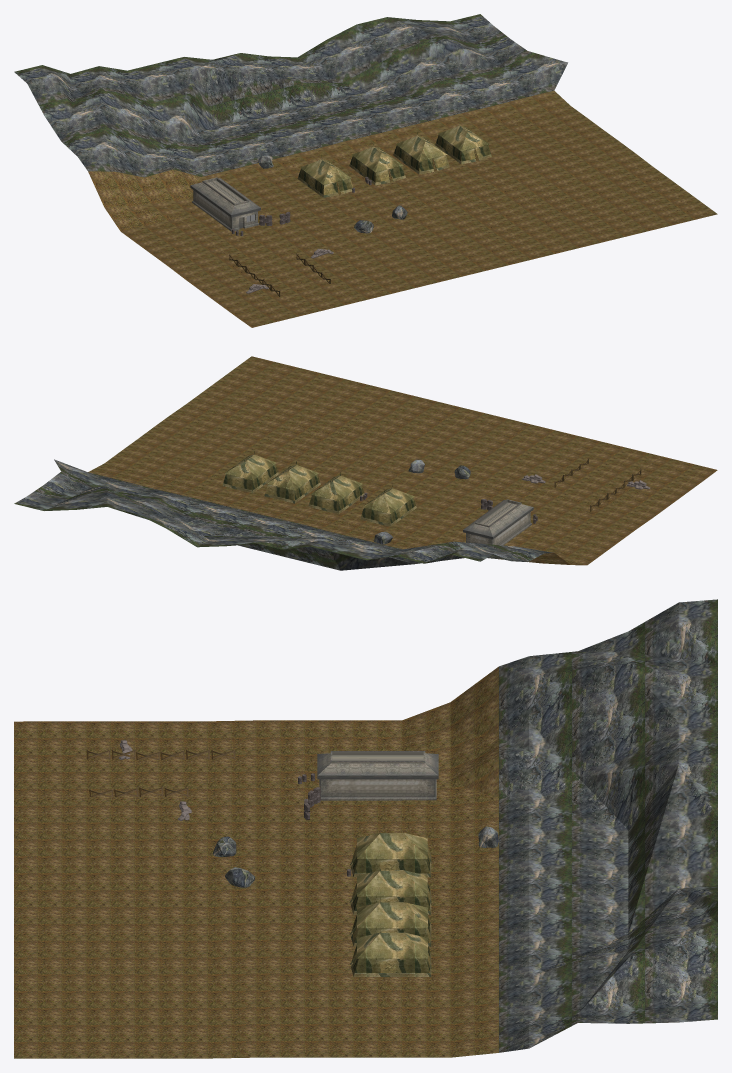
File: scn.DAE
3 views of the same model, one above another, from view 1: azimuth 30°, elevation 25°; view 2: azimuth 150°, elevation 25°; view 3: azimuth 270°, elevation 25° (orthographic). The views are drawn at different scales.
Visible parts, largest first — view 1: Ground02, Object01, Box281, Box59, Box544; view 2: Ground02, Object01, Box281, Box59, Box544, Line01; view 3: Ground02, Object01, Box281, Box59, Line01, Box544.
Part boxes in pixels (x1,y1,x2,y2): Ground02: [88, 90, 717, 327]; Object01: [14, 14, 567, 177]; Box281: [297, 122, 491, 197]; Box59: [190, 177, 260, 231]; Box544: [258, 155, 407, 233]; Ground02: [88, 356, 717, 565]; Object01: [14, 459, 553, 570]; Box281: [222, 451, 416, 526]; Box59: [463, 499, 533, 545]; Box544: [374, 459, 470, 544]; Line01: [554, 458, 641, 511]; Ground02: [14, 666, 498, 1058]; Object01: [499, 599, 717, 1052]; Box281: [349, 832, 431, 976]; Box59: [317, 751, 438, 800]; Line01: [86, 749, 235, 796]; Box544: [212, 826, 499, 887].
Size of the model in its own units: 3581 by 3004 by 584.
8 materials, 7 textured.
